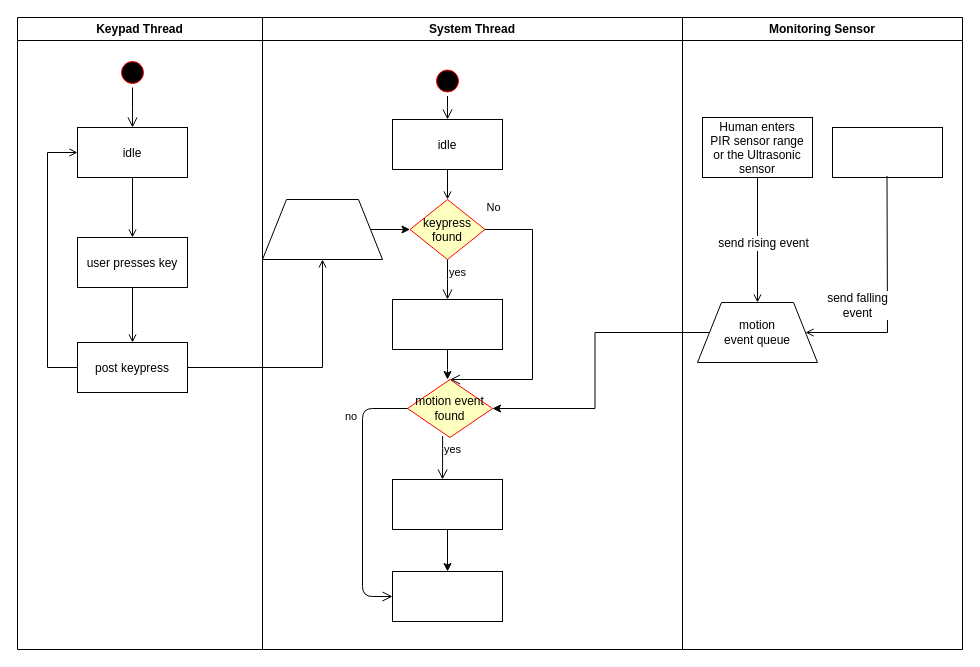
This 980x667 diagram has some shape labels left out. The shapes that lost their labels are listed below. From the top down, each one's centre as x and y in pixels, then its label:
At [887,152]: "Human leaves sensors range".
At [322,229]: "keypress queue".
At [447,324]: "process keypess".
At [447,504]: "process motion event".
At [447,596]: "Back to Idle".
